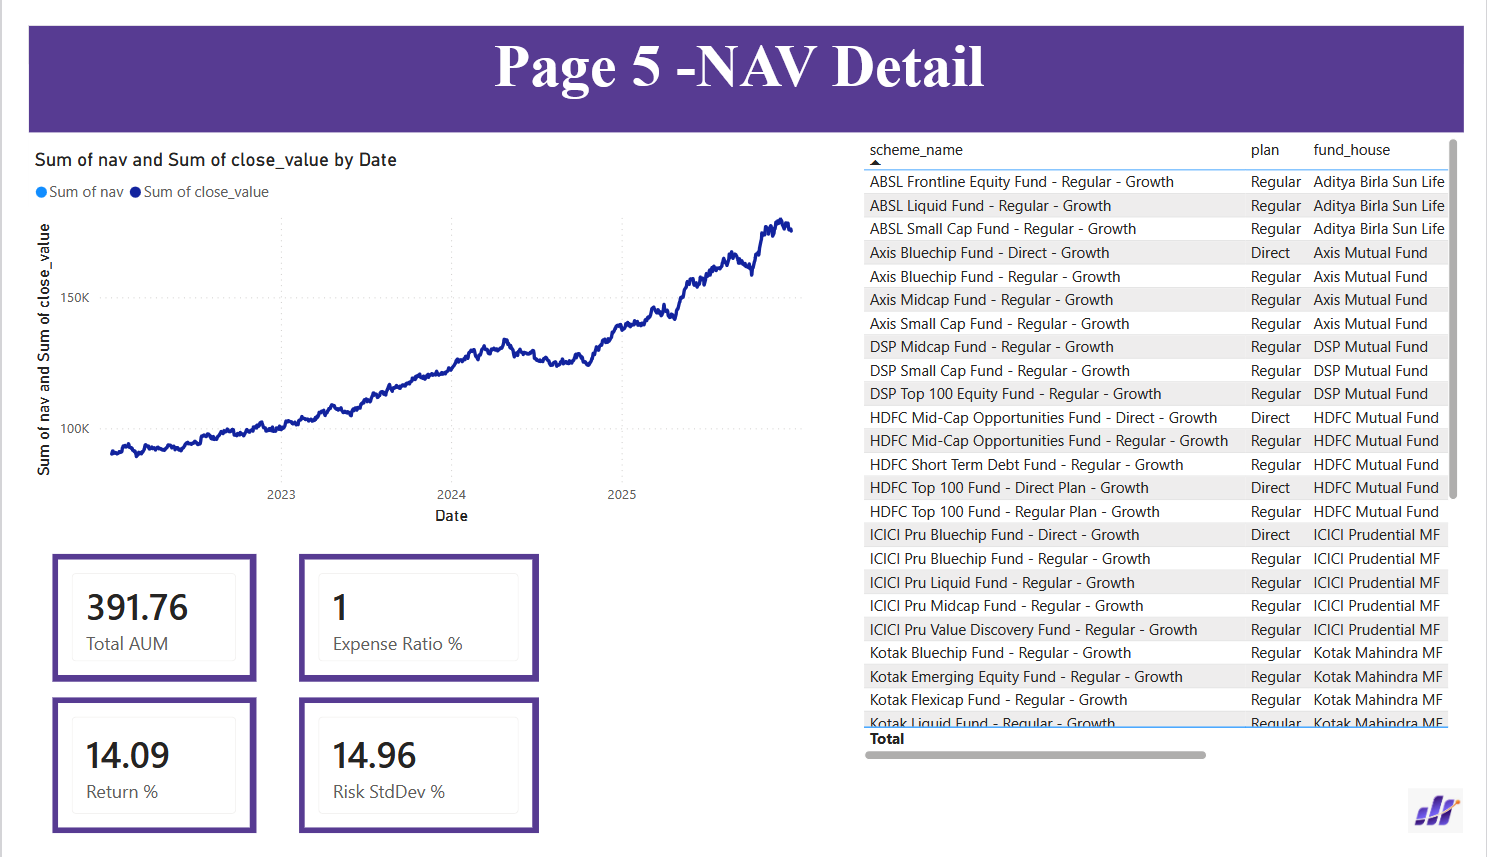

The page's visual inventory and layout, read from the dashboard file:
{"tool":"powerbi","page":{"name":"Page 5","canvas":[1280,720],"ordinal":4},"visuals":[{"type":"lineChart","fields":{"Y":["Sum(fact_nav.nav)","Sum(dim_benchmark.close_value)"],"Category":["DateTable.Date"]},"box":[0,108.8,697.5,340],"z":0},{"type":"cardVisual","fields":{"Data":["DateTable.Expense Ratio %"]},"box":[241.2,471.2,213.8,113.8],"z":1},{"type":"cardVisual","fields":{"Data":["DateTable.Return %"]},"box":[21.2,598.8,181.2,121.2],"z":2},{"type":"cardVisual","fields":{"Data":["DateTable.Risk StdDev %"]},"box":[241.2,598.8,213.8,121.2],"z":3},{"type":"cardVisual","fields":{"Data":["DateTable.Total AUM"]},"box":[21.2,471.2,181.2,113.8],"z":4},{"type":"tableEx","fields":{"Values":["dim_fund.scheme_name","dim_fund.plan","dim_fund.fund_house","dim_fund.category","fact_performance.risk_grade","Sum(fact_performance.morningstar_rating)"]},"box":[738.8,95,541.2,565],"z":5},{"type":"textbox","box":[0,0,1280,95],"z":8},{"type":"image","box":[1228.8,680,51.2,40],"z":10}]}

Visuals, with their boxes in screenshot pixels (x1, y1, x2, y2), scaled from the page's 1280x720 canvas onto the 1487x857 screenshot:
lineChart - Sum(fact_nav.nav) x Sum(dim_benchmark.close_value): (x1=0, y1=130, x2=810, y2=534)
cardVisual - DateTable.Expense Ratio %: (x1=280, y1=561, x2=529, y2=696)
cardVisual - DateTable.Return %: (x1=25, y1=713, x2=235, y2=856)
cardVisual - DateTable.Risk StdDev %: (x1=280, y1=713, x2=529, y2=856)
cardVisual - DateTable.Total AUM: (x1=25, y1=561, x2=235, y2=696)
tableEx - dim_fund.scheme_name x dim_fund.plan: (x1=858, y1=113, x2=1486, y2=786)
textbox: (x1=0, y1=0, x2=1486, y2=113)
image: (x1=1428, y1=809, x2=1486, y2=856)
